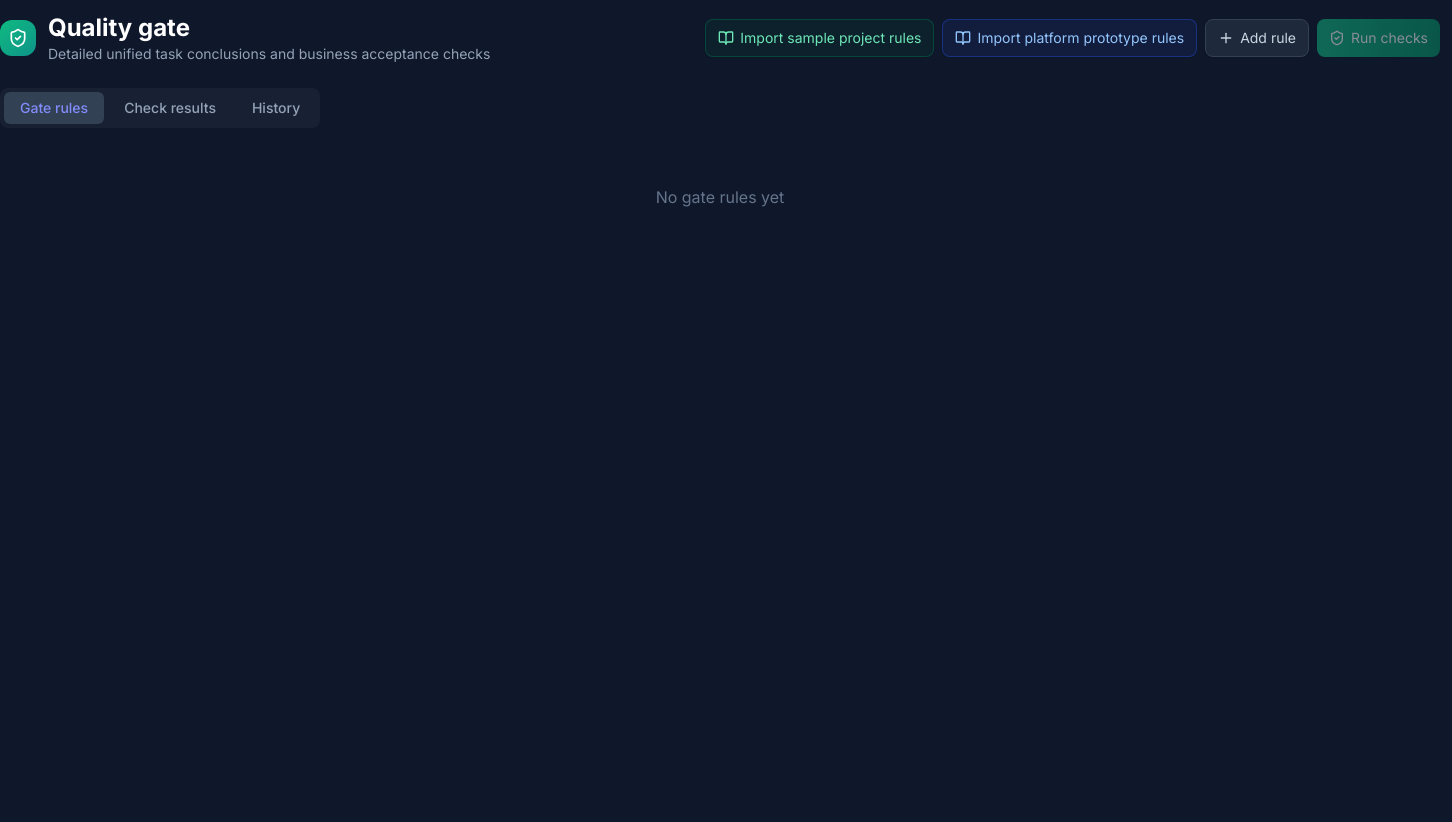
Test: QualityGatePage › should import sample_platform rules and run quality gate check
Click the button "Import sample project rules": click(820, 38) [705,19,934,57]
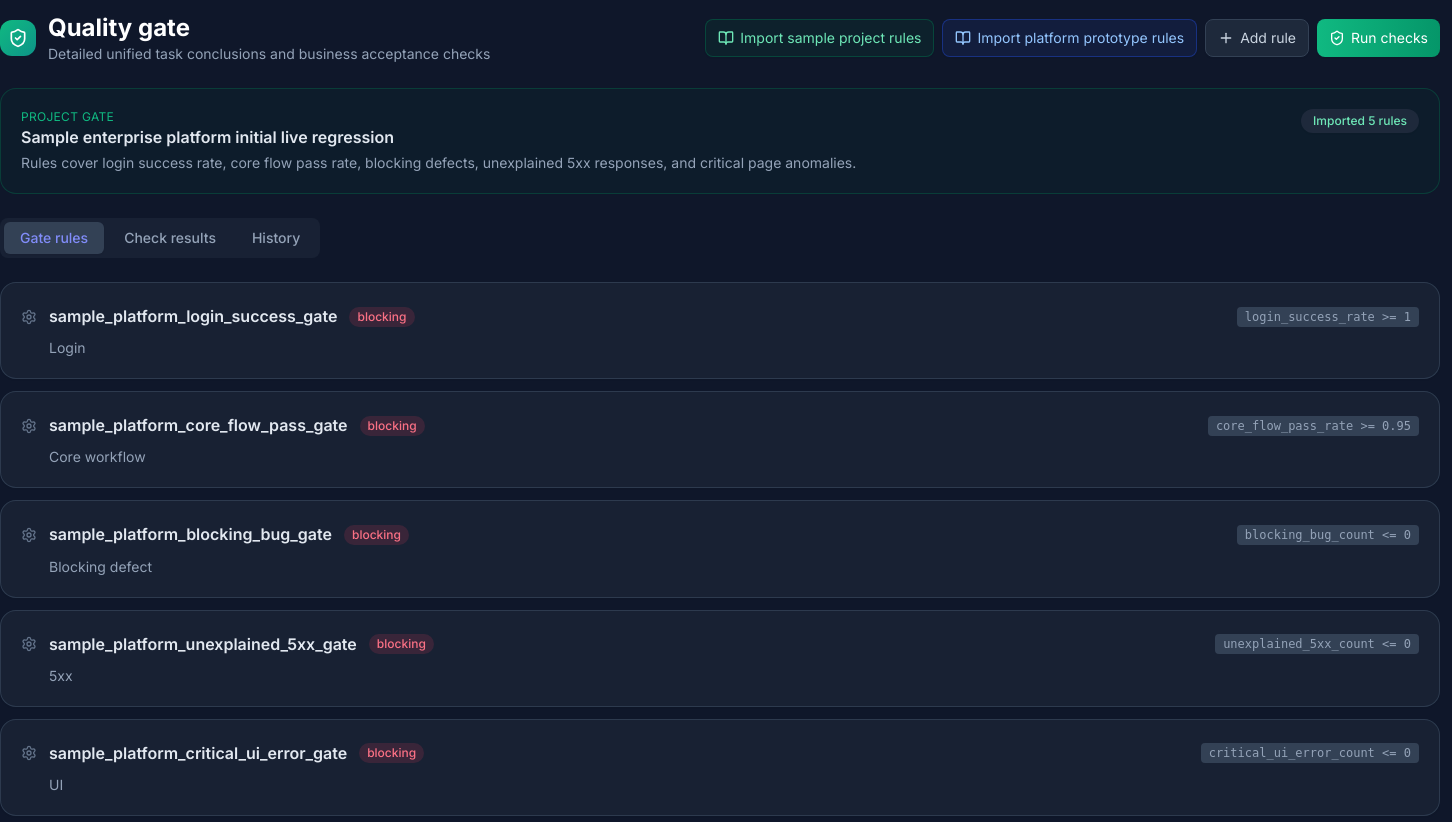
Result: the heading "Sample enterprise platform initial live regression" is shown at [21,127,394,147]
Result: the text "Imported 5 rules" is shown at [1301,109,1419,133]
Result: the text "sample_platform_login_success_gate" is shown at [49,303,338,330]
Click the button "Run checks": click(1378, 38) [1317,19,1440,57]
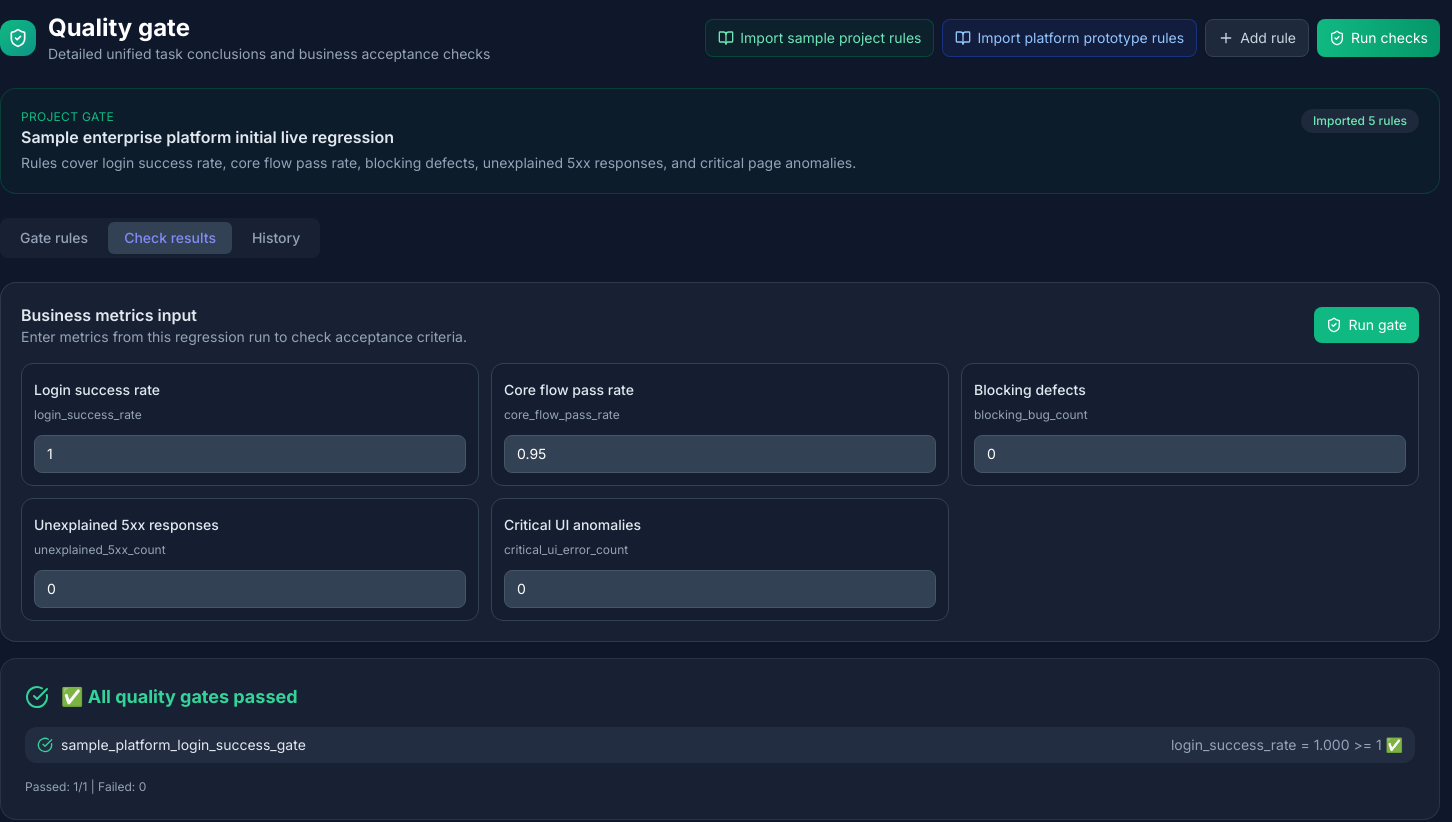
Result: the text "✅ All quality gates passed" is shown at [61,683,298,711]
Result: the text "Passed: 1/1 | Failed: 0" is shown at [25,779,146,794]
